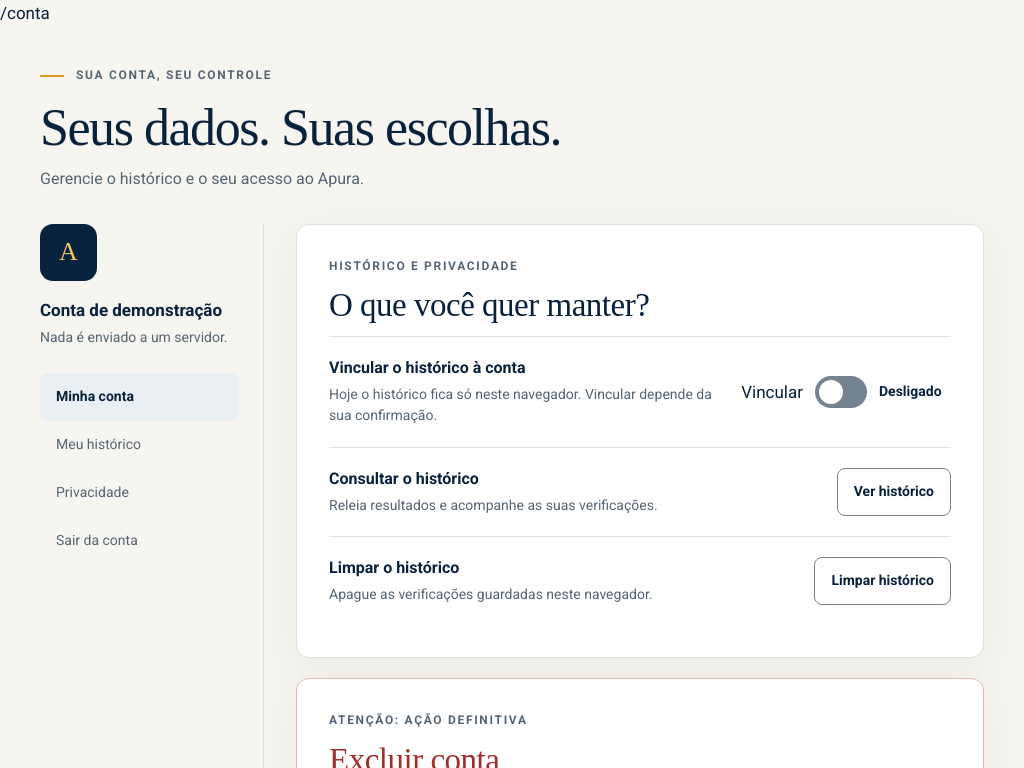
Scenario: RF28: vincular o histórico › "Vincular histórico" vincula e avisa
Click the switch labelled "Vincular" at point(841, 392), box [815,376,867,408]
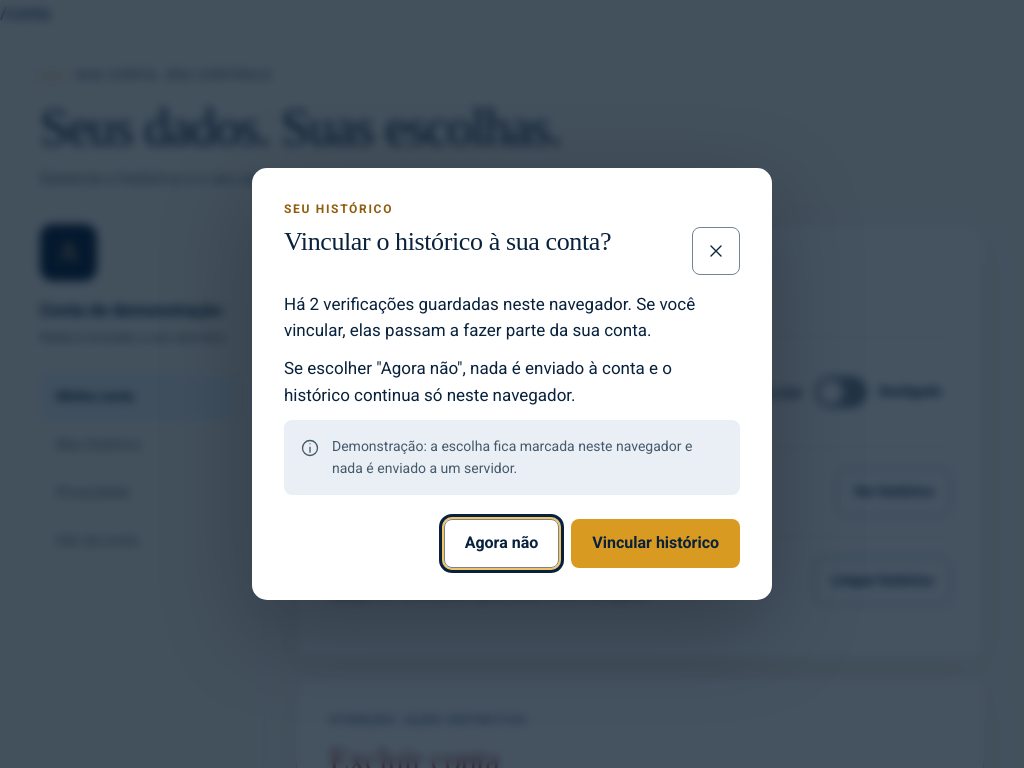
Click the button "Vincular histórico" at point(656, 544), box [571,520,740,568]
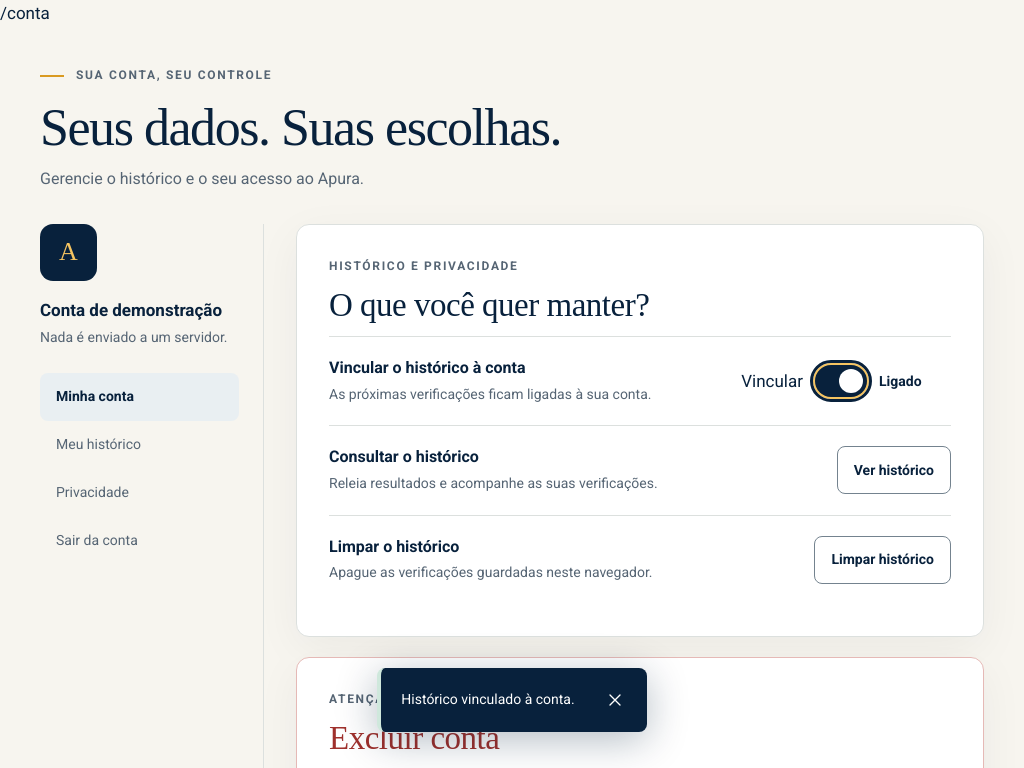
Check: the switch labelled "Vincular" is checked, box [815,365,867,397]
Check: the text "Histórico vinculado à conta." is shown, box [401,691,575,707]
Check: the text "As próximas verificações ficam ligadas à sua conta." is shown, box [329,384,652,406]
